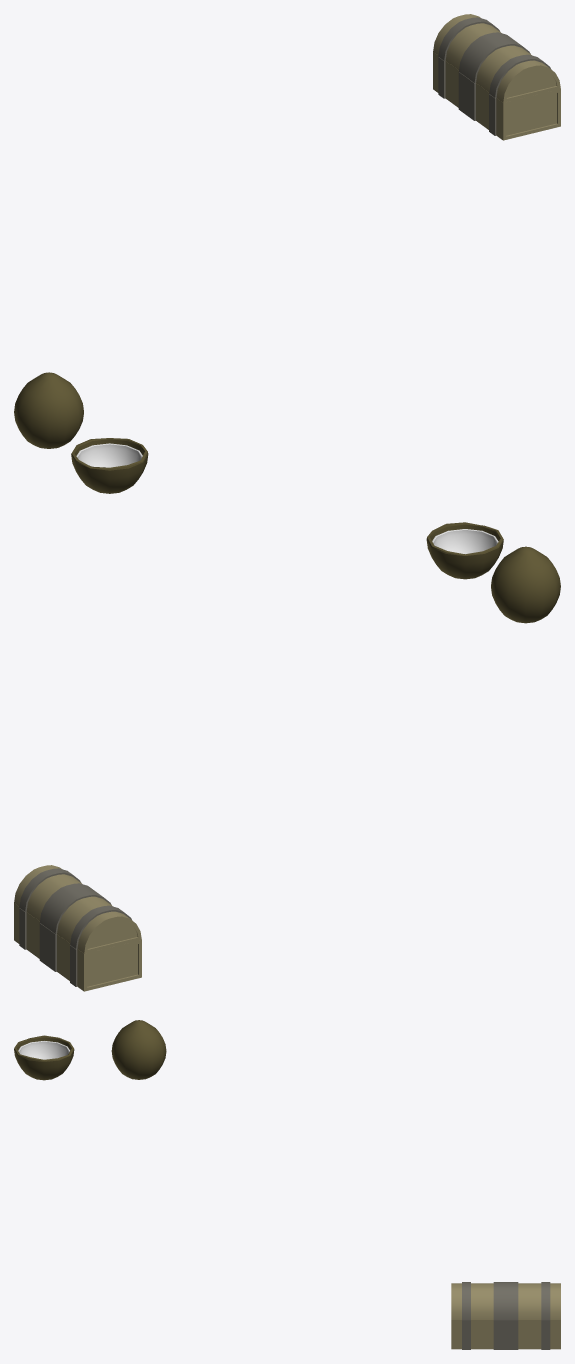
The model's file is Low Poly Props.fbx.
3 views of the same model, one above another, from view 1: azimuth 30°, elevation 25°; view 2: azimuth 210°, elevation 25°; view 3: azimuth 270°, elevation 25° (orthographic). The views are drawn at different scales.
Visible parts, largest first — view 1: Chest_Lid, Chest_Container, Coconut, Coconut_Cup; view 2: Chest_Lid, Chest_Container, Coconut, Coconut_Cup; view 3: Chest_Lid, Chest_Container, Coconut, Coconut_Cup.
Boxes of the visible parts, box(x1,y1,x2,y2) form: Chest_Lid: box(433, 14, 560, 102); Chest_Container: box(433, 52, 560, 140); Coconut: box(14, 372, 83, 448); Coconut_Cup: box(71, 438, 148, 493); Chest_Lid: box(14, 865, 141, 953); Chest_Container: box(14, 903, 141, 991); Coconut: box(491, 546, 560, 623); Coconut_Cup: box(426, 522, 503, 579); Chest_Lid: box(451, 1282, 560, 1320); Chest_Container: box(451, 1320, 560, 1349); Coconut: box(111, 1020, 166, 1079); Coconut_Cup: box(14, 1035, 74, 1080).
Size of the model in its own units: 24.58 by 2.32 by 19.95.
